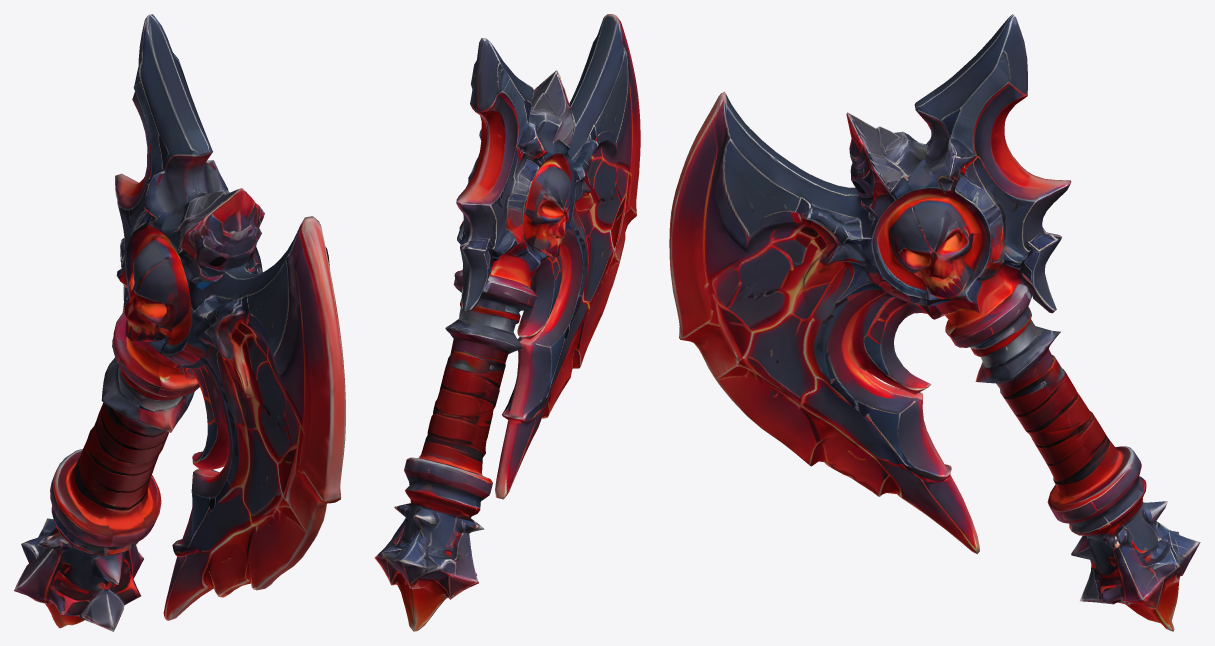
Rendered from Hache rouge.glb.
3 views of the same model, side by side, from view 1: azimuth 30°, elevation 25°; view 2: azimuth 150°, elevation 25°; view 3: azimuth 270°, elevation 25° (orthographic). The views are drawn at different scales.
Visible parts, largest first — view 1: tripo_node_4ef79d8b-49fd-4dc1-8fcf-4a78d0383ee9; view 2: tripo_node_4ef79d8b-49fd-4dc1-8fcf-4a78d0383ee9; view 3: tripo_node_4ef79d8b-49fd-4dc1-8fcf-4a78d0383ee9.
Part boxes in pixels (x1,y1,x2,y2): tripo_node_4ef79d8b-49fd-4dc1-8fcf-4a78d0383ee9: [14, 14, 345, 631]; tripo_node_4ef79d8b-49fd-4dc1-8fcf-4a78d0383ee9: [374, 14, 640, 631]; tripo_node_4ef79d8b-49fd-4dc1-8fcf-4a78d0383ee9: [669, 14, 1200, 631].
Bounding box in the file's own units: 0.2016 × 1 × 0.7807.
1 material, 1 textured.
